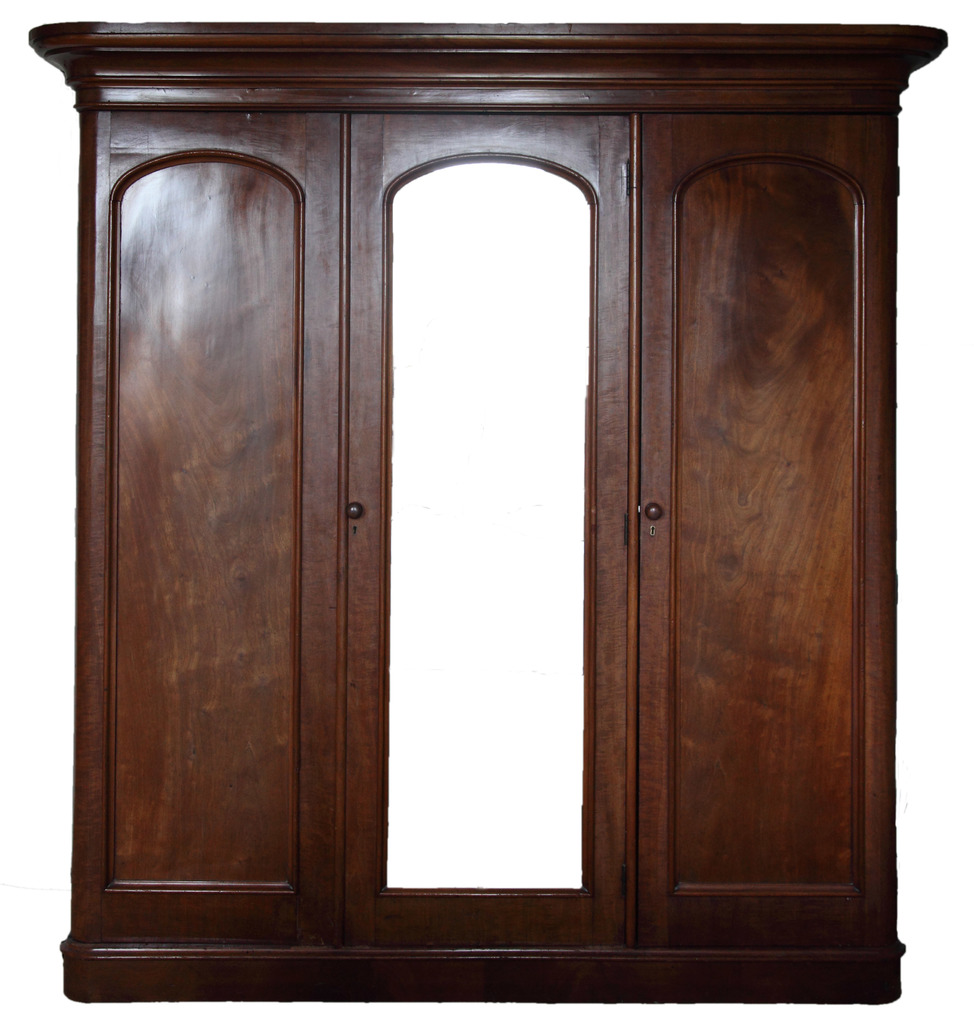cabinet door: (354, 128, 620, 944), (645, 128, 873, 936)
handle: (641, 491, 667, 543), (344, 499, 368, 529)
